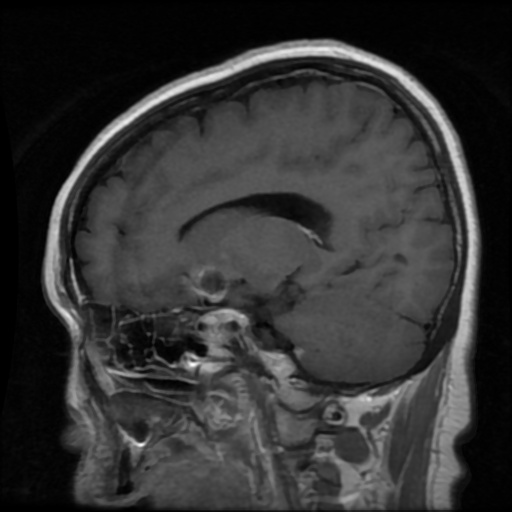pituitary: (195, 263, 231, 302)
